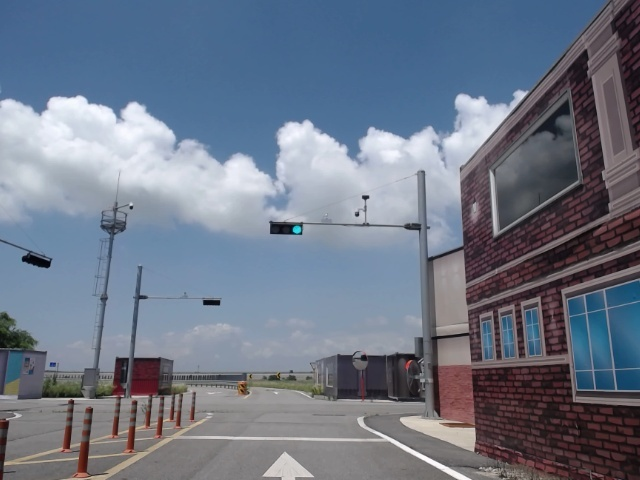green_3: (269, 224, 302, 234)
